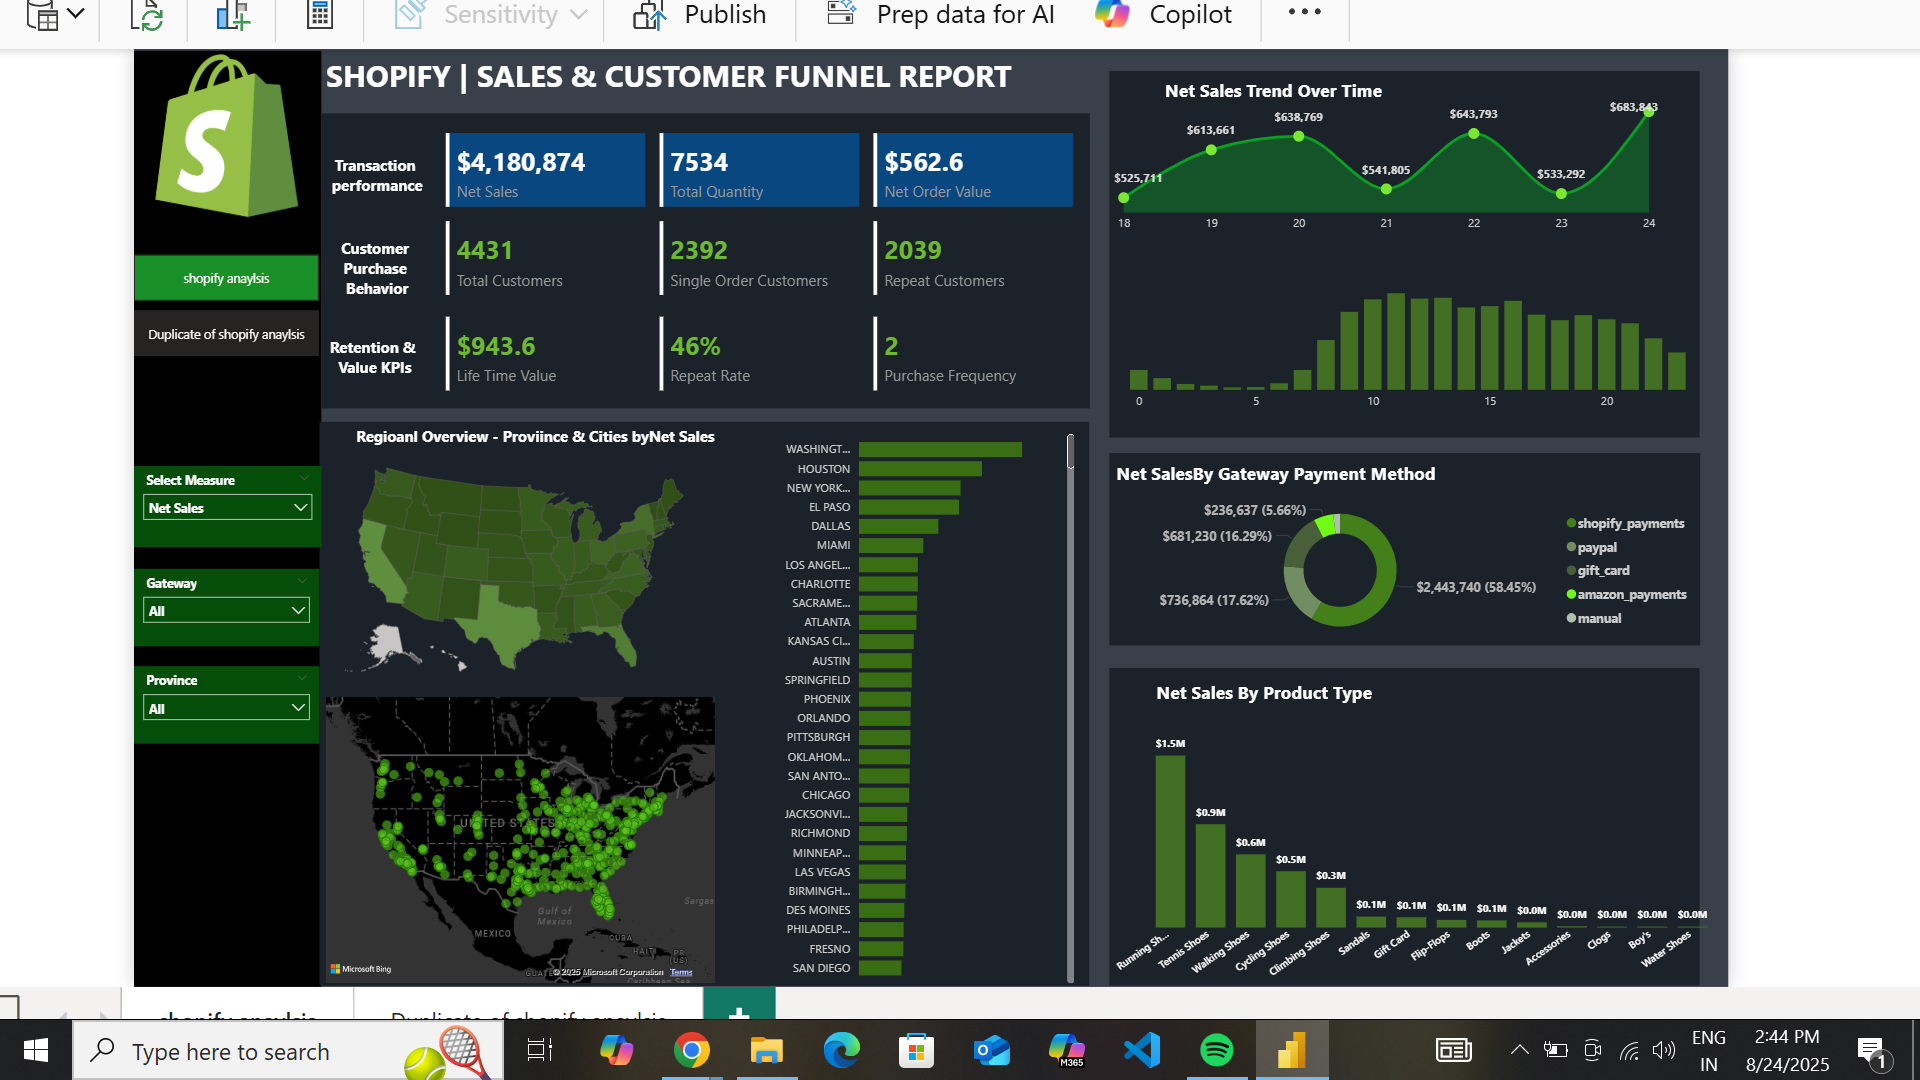

The page's visual inventory and layout, read from the dashboard file:
{"tool":"powerbi","page":{"name":"shopify anaylsis","canvas":[1700,1000],"ordinal":0},"visuals":[{"type":"shape","box":[0,2.2,199.7,998.6],"z":0},{"type":"textbox","box":[199.7,0,955.2,86.8],"z":1000},{"type":"shape","box":[198.9,69,819.5,314.9],"z":2000},{"type":"cardVisual","fields":{"Data":["shopify_sales.Net Sales","shopify_sales.Total Quantity","shopify_sales.Net Order Value"]},"box":[327.6,83.9,680.5,89.7],"z":3000},{"type":"card","fields":{"Values":["shopify_sales.Transaction perf"]},"box":[198.9,86.2,118.4,95.4],"z":4000},{"type":"cardVisual","fields":{"Data":["shopify_sales.Total Customers","shopify_sales.Single Order Customers","shopify_sales.Repeat Customers"]},"box":[327.6,177.6,680.5,89.7],"z":5000},{"type":"card","fields":{"Values":["shopify_sales.Customer Purchase Behavior"]},"box":[198.9,181.6,118.4,95.4],"z":6000},{"type":"card","fields":{"Values":["shopify_sales.Retention & Value KPIs"]},"box":[197.5,280,117.2,95.5],"z":7000},{"type":"cardVisual","fields":{"Data":["shopify_sales.Life Time Value","shopify_sales.Repeat Rate","shopify_sales.Purchase Frequency"]},"box":[327.6,280.5,680.5,89.7],"z":8000},{"type":"shape","box":[197.5,397.3,820.6,601.3],"z":9000},{"type":"shapeMap","fields":{"Value":["shopify_sales.Net Sales"],"Category":["shopify_sales.Billing Address Province"]},"box":[199.7,397.3,410.3,314.8],"z":10000},{"type":"slicer","fields":{"Values":["Select Measure.Select Measure"]},"box":[0,445,199.7,86.8],"z":11000},{"type":"map","fields":{"Category":["shopify_sales.Location"]},"box":[199.7,686,425.5,314.8],"z":12000},{"type":"clusteredBarChart","fields":{"Y":["shopify_sales.Net Sales"],"Category":["shopify_sales.CITY"]},"box":[677.3,397.3,330,603.5],"z":13000},{"type":"card","fields":{"Values":["Select Measure.Map Title"]},"box":[141.1,384.2,573.1,60.8],"z":14000},{"type":"shape","box":[1039.8,23.9,629.5,390.7],"z":15000},{"type":"areaChart","fields":{"Y":["shopify_sales.Net Sales"],"Category":["shopify_sales.Invoice Date.Variation.Date Hierarchy.Day"]},"box":[1040,43.3,590,160],"z":16000},{"type":"columnChart","fields":{"Y":["shopify_sales.Net Sales"],"Category":["shopify_sales.Hour"]},"box":[1055,219.3,629.5,173.7],"z":17000},{"type":"card","fields":{"Values":["shopify_sales.Trend Title"]},"box":[1040,23.3,355,45],"z":18000},{"type":"shape","box":[1040,431.7,630,205],"z":19000},{"type":"donutChart","fields":{"Y":["shopify_sales.Net Sales"],"Category":["shopify_sales.Gateway"]},"box":[1039.8,473.2,629.5,162.8],"z":20000},{"type":"card","fields":{"Values":["shopify_sales.Gateway Title"]},"box":[1040,431.7,355,45],"z":21000},{"type":"shape","box":[1039.8,659.9,629.5,338.6],"z":22000},{"type":"columnChart","fields":{"Y":["shopify_sales.Net Sales"],"Category":["shopify_sales.Product Type"]},"box":[1039.8,712,659.9,286.5],"z":23000},{"type":"card","fields":{"Values":["shopify_sales.Product Title"]},"box":[1039.8,662.1,330,49.9],"z":24000},{"type":"image","box":[0,0,197.5,184.5],"z":25000},{"type":"slicer","fields":{"Values":["shopify_sales.Gateway"]},"box":[0,553.6,197.5,82.5],"z":26000},{"type":"slicer","fields":{"Values":["shopify_sales.Billing Address Province"]},"box":[0,657.8,197.5,82.5],"z":27000},{"type":"pageNavigator","box":[0,219.3,197.5,108.5],"z":27001}]}

Visuals, with their boxes on the page's 1700x1000 design canvas (x1, y1, x2, y2). These are canvas units, not pixel positions in the 1920x1080 screenshot, which may show the page scaled, cropped or inside an application window:
shape: [x1=0, y1=2, x2=200, y2=1001]
textbox: [x1=200, y1=0, x2=1155, y2=87]
shape: [x1=199, y1=69, x2=1018, y2=384]
cardVisual - shopify_sales.Net Sales x shopify_sales.Total Quantity: [x1=328, y1=84, x2=1008, y2=174]
card - shopify_sales.Transaction perf: [x1=199, y1=86, x2=317, y2=182]
cardVisual - shopify_sales.Total Customers x shopify_sales.Single Order Customers: [x1=328, y1=178, x2=1008, y2=267]
card - shopify_sales.Customer Purchase Behavior: [x1=199, y1=182, x2=317, y2=277]
card - shopify_sales.Retention & Value KPIs: [x1=198, y1=280, x2=315, y2=376]
cardVisual - shopify_sales.Life Time Value x shopify_sales.Repeat Rate: [x1=328, y1=280, x2=1008, y2=370]
shape: [x1=198, y1=397, x2=1018, y2=999]
shapeMap - shopify_sales.Net Sales x shopify_sales.Billing Address Province: [x1=200, y1=397, x2=610, y2=712]
slicer - Select Measure.Select Measure: [x1=0, y1=445, x2=200, y2=532]
map - shopify_sales.Location: [x1=200, y1=686, x2=625, y2=1001]
clusteredBarChart - shopify_sales.Net Sales x shopify_sales.CITY: [x1=677, y1=397, x2=1007, y2=1001]
card - Select Measure.Map Title: [x1=141, y1=384, x2=714, y2=445]
shape: [x1=1040, y1=24, x2=1669, y2=415]
areaChart - shopify_sales.Net Sales x shopify_sales.Invoice Date.Variation.Date Hierarchy.Day: [x1=1040, y1=43, x2=1630, y2=203]
columnChart - shopify_sales.Net Sales x shopify_sales.Hour: [x1=1055, y1=219, x2=1684, y2=393]
card - shopify_sales.Trend Title: [x1=1040, y1=23, x2=1395, y2=68]
shape: [x1=1040, y1=432, x2=1670, y2=637]
donutChart - shopify_sales.Net Sales x shopify_sales.Gateway: [x1=1040, y1=473, x2=1669, y2=636]
card - shopify_sales.Gateway Title: [x1=1040, y1=432, x2=1395, y2=477]
shape: [x1=1040, y1=660, x2=1669, y2=998]
columnChart - shopify_sales.Net Sales x shopify_sales.Product Type: [x1=1040, y1=712, x2=1700, y2=998]
card - shopify_sales.Product Title: [x1=1040, y1=662, x2=1370, y2=712]
image: [x1=0, y1=0, x2=198, y2=184]
slicer - shopify_sales.Gateway: [x1=0, y1=554, x2=198, y2=636]
slicer - shopify_sales.Billing Address Province: [x1=0, y1=658, x2=198, y2=740]
pageNavigator: [x1=0, y1=219, x2=198, y2=328]
